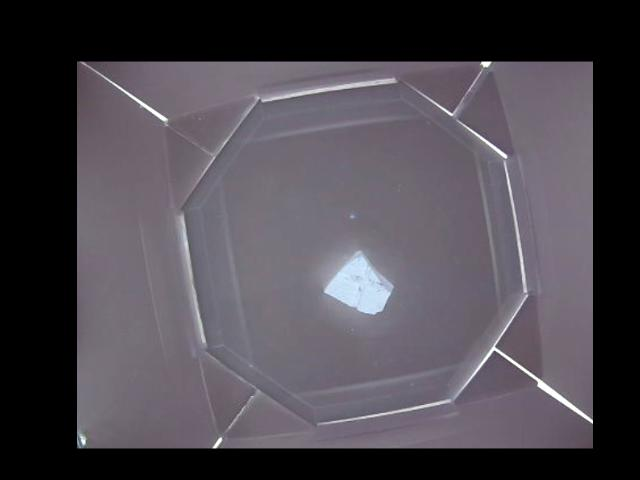China: (323, 250, 392, 314)
